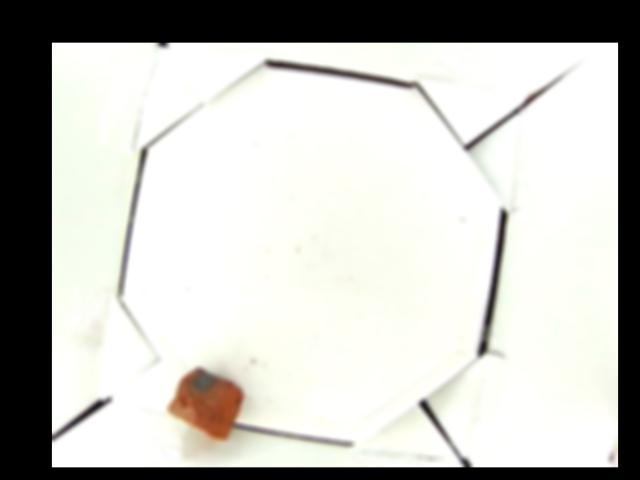Brisk: (167, 365, 243, 439)
